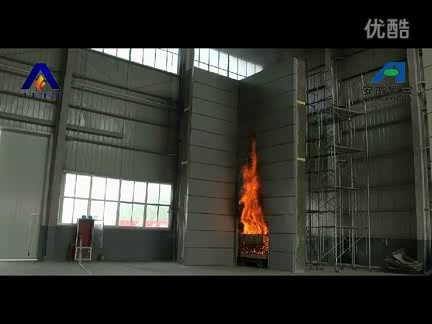fire: (236, 137, 269, 236)
